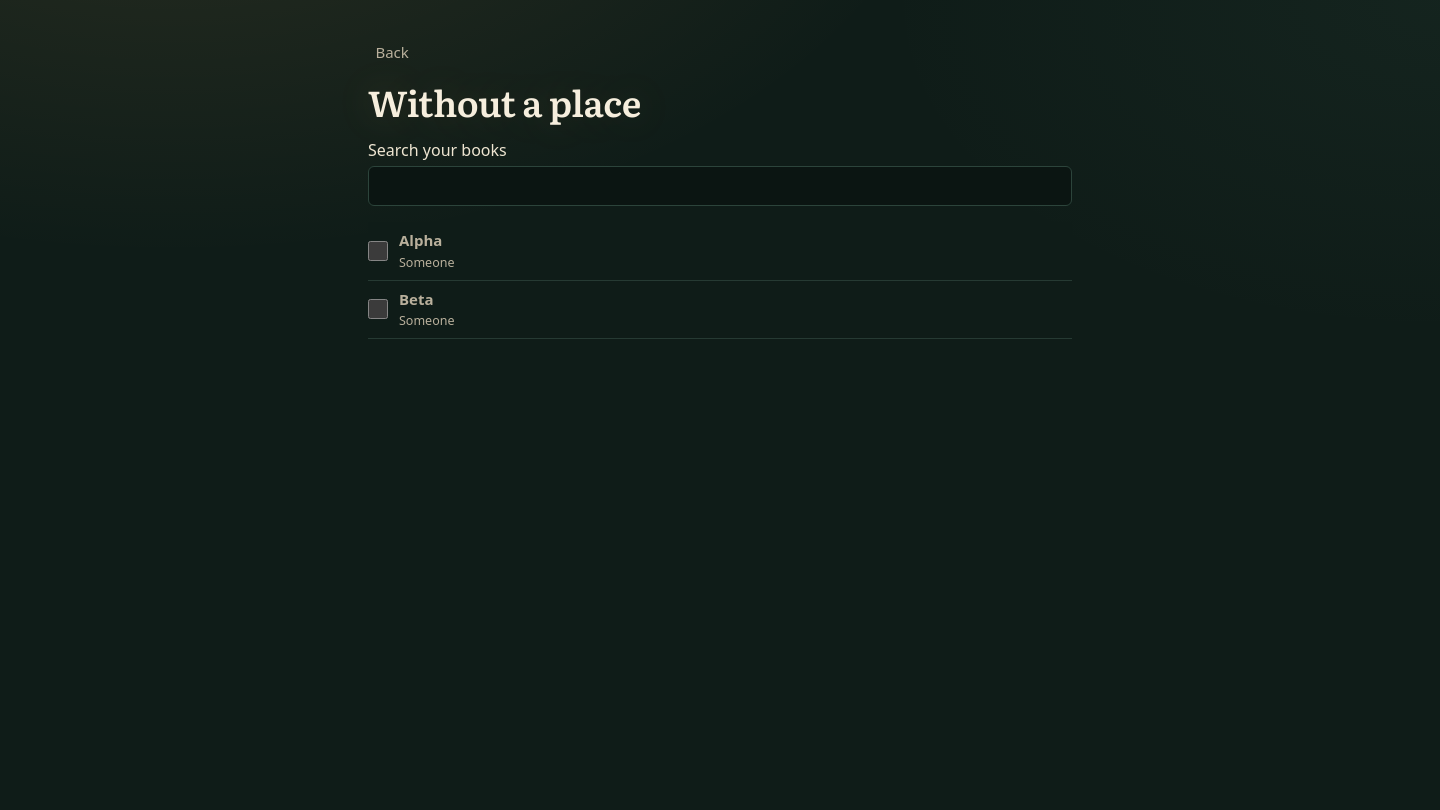
Test case: inside a bookcase › withoutPlaceCanPlaceSeveral
The image size is (1440, 810).
Click the checkbox named "Select Alpha". click: coordinates (378, 251)
box: top-left (368, 241), bottom-right (388, 261)
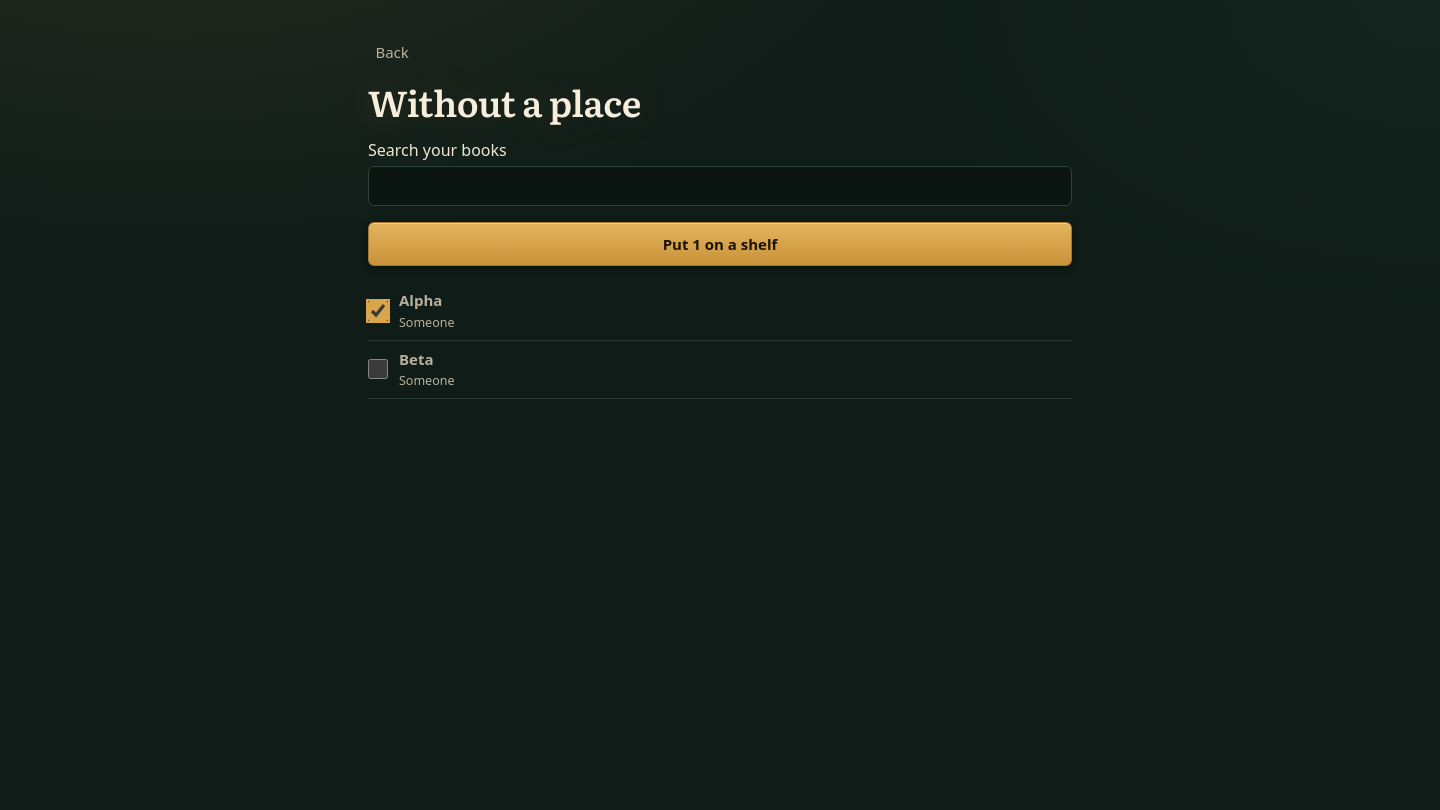
Click the checkbox named "Select Beta". click: coordinates (378, 369)
box: top-left (368, 359), bottom-right (388, 379)
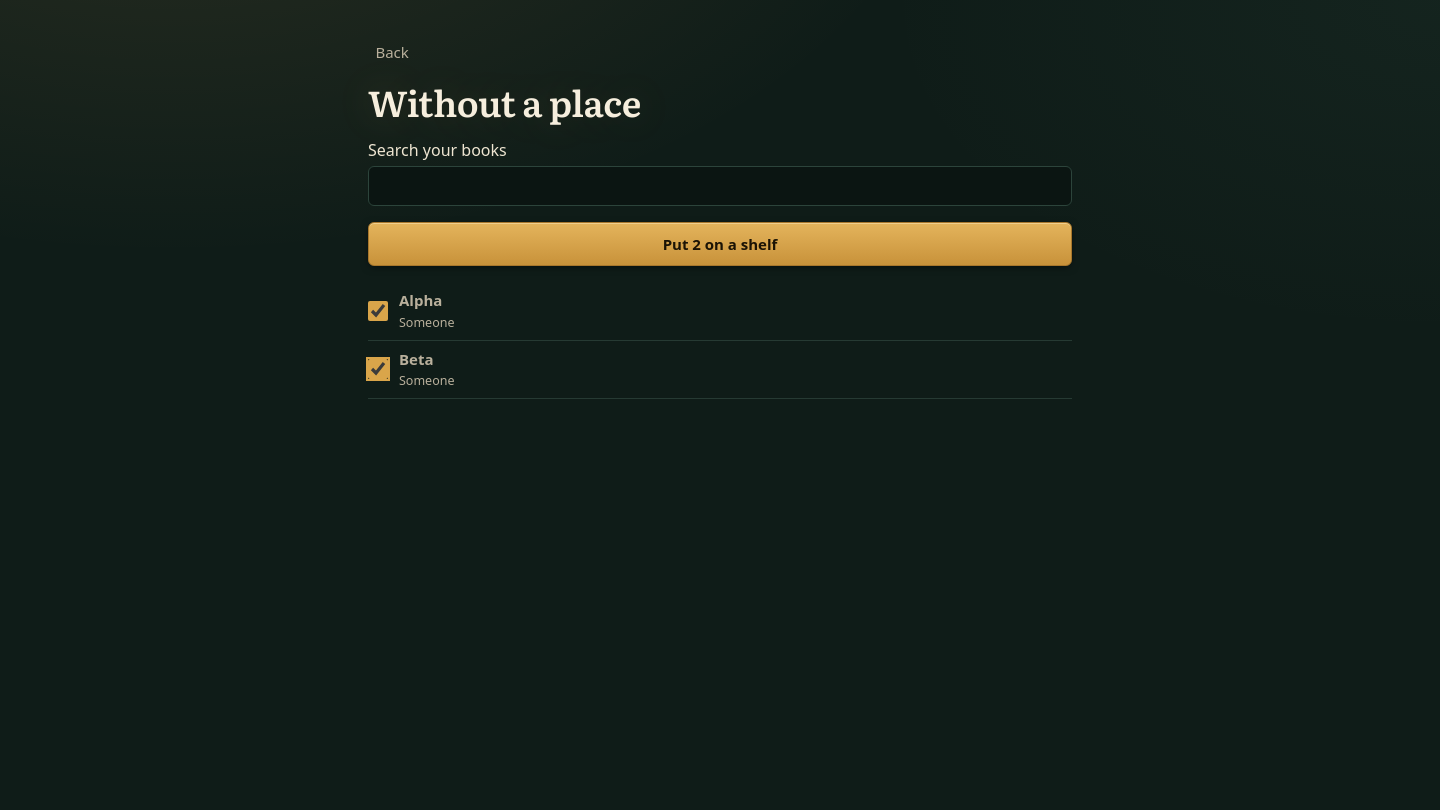
Click the button "Put 2 on a shelf". click: coordinates (720, 244)
box: top-left (368, 222), bottom-right (1072, 266)
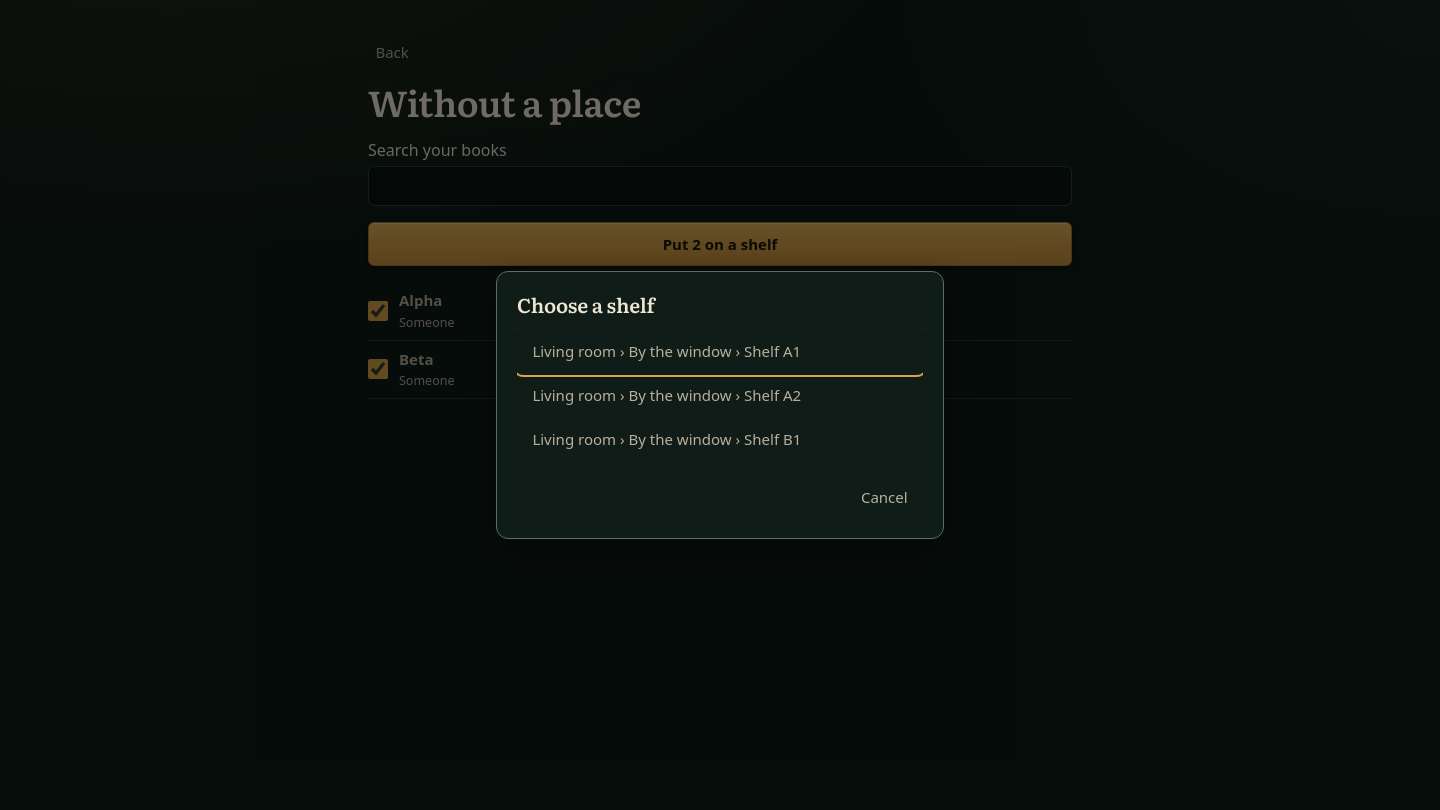
Click the button "Living room › By the window › Shelf A2". click: coordinates (720, 395)
box: top-left (517, 373), bottom-right (923, 417)
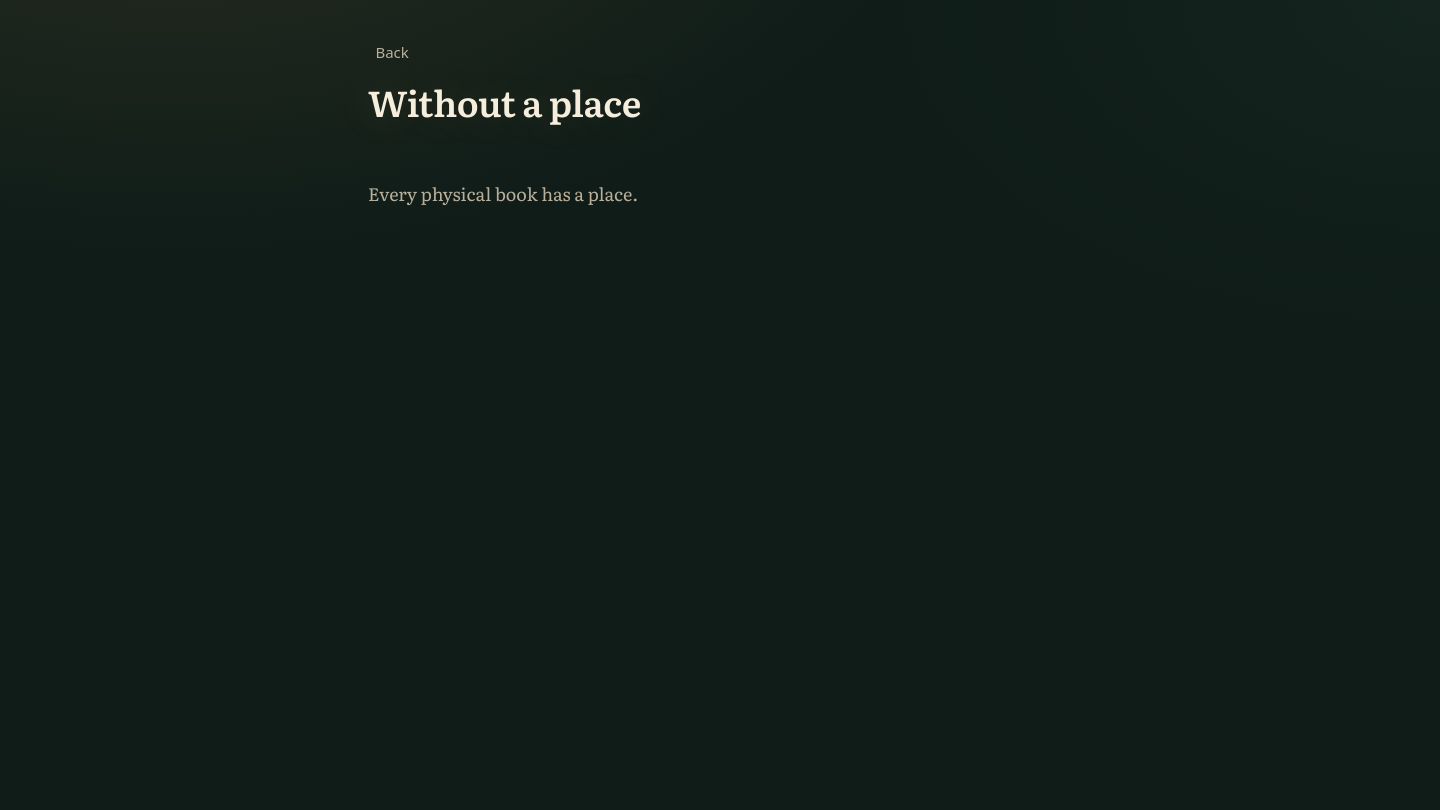
Expected: the text "Every physical book has a place." is shown, top-left (368, 180), bottom-right (638, 207)
